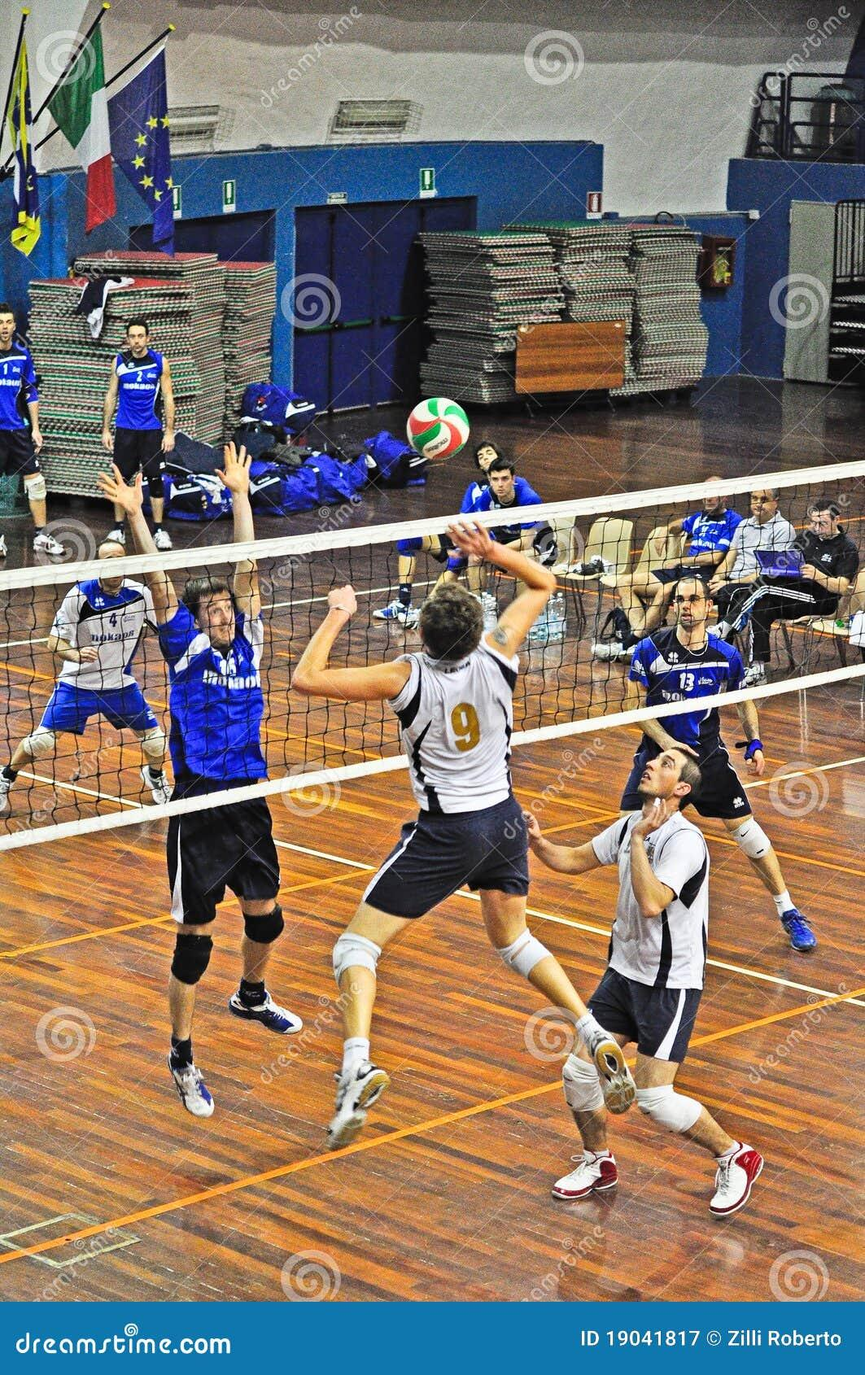ballon_volley: (405, 395, 470, 464)
